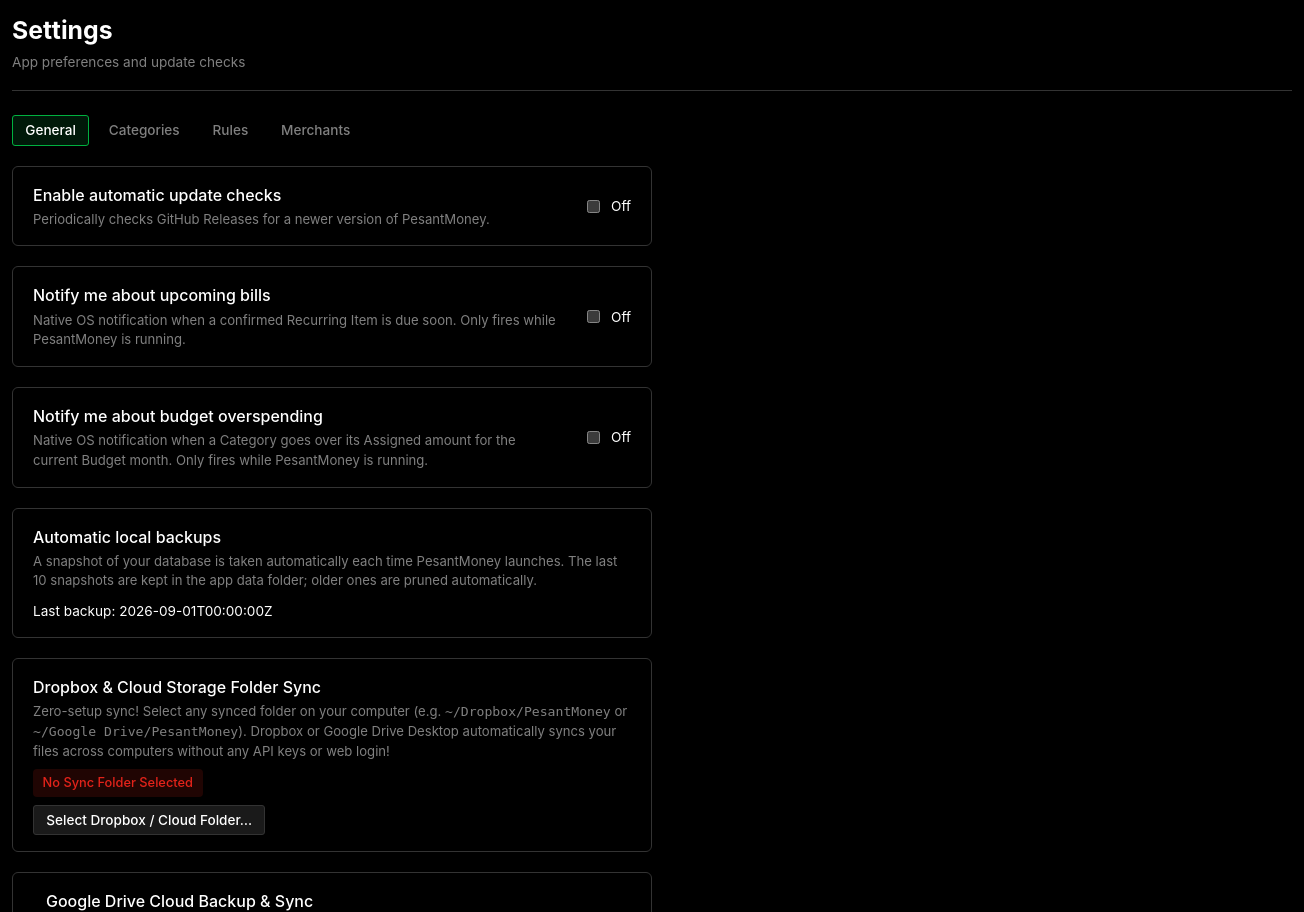
Test case: SettingsScreen tab strip › switches to the Categories tab and renders CategoriesScreen content
The width and height of the screenshot is (1304, 912).
Check: the text "Enable automatic update checks" is shown, box x1=33 y1=185 x2=281 y2=205
Click the tab "Categories" at (144, 130), box x1=96 y1=115 x2=193 y2=146
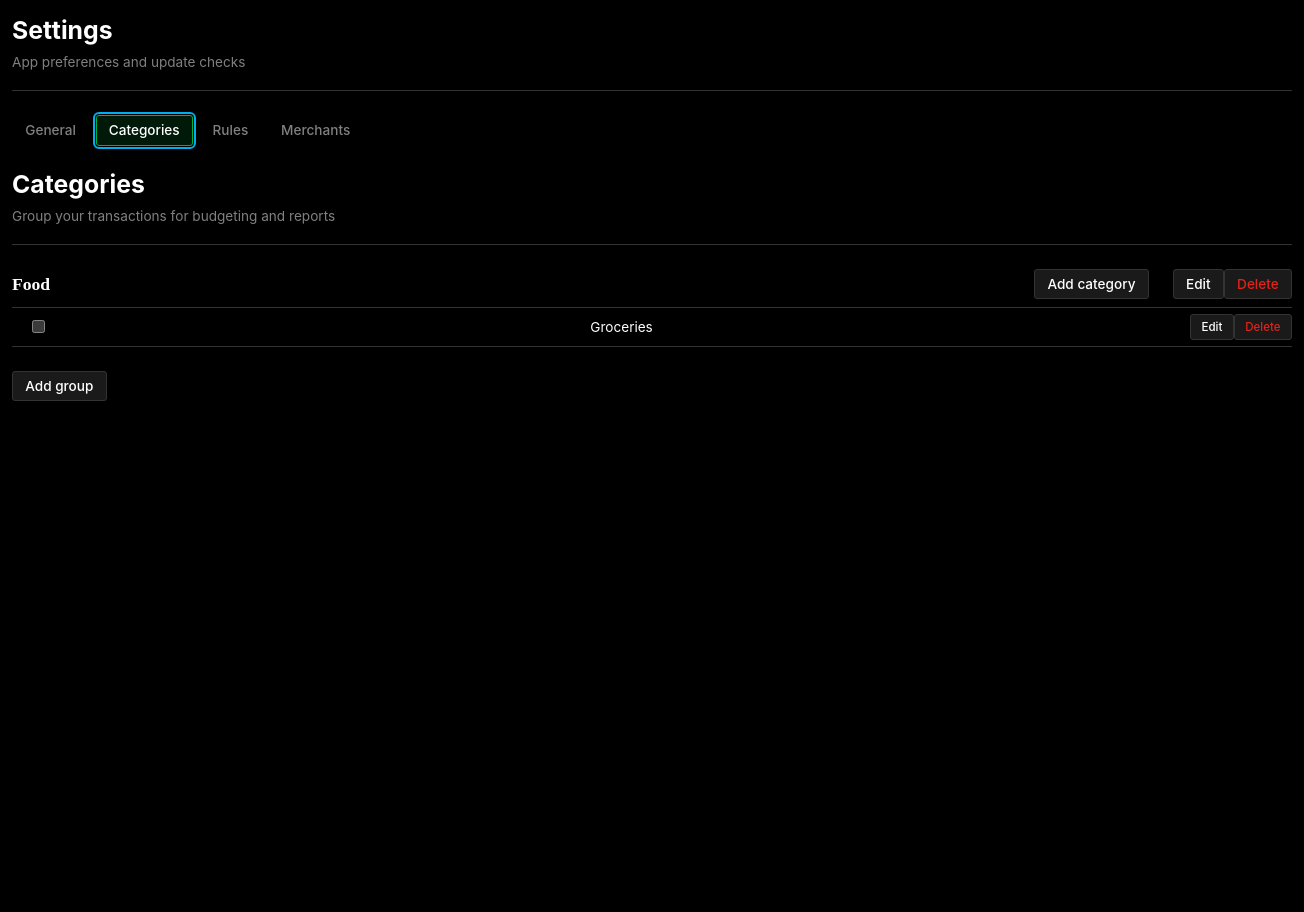
Check: the text "Groceries" is shown, box x1=590 y1=317 x2=653 y2=337
Check: the text "Enable automatic update checks" is gone
